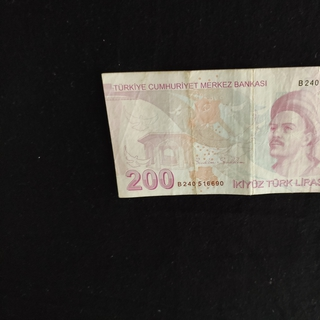200TLBack: (99, 64, 320, 198)
